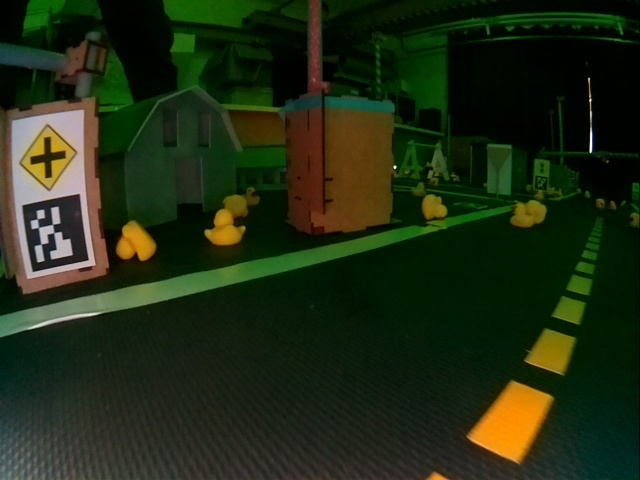Duckie: (116, 222, 155, 261), (205, 214, 245, 246), (422, 196, 447, 218), (224, 194, 246, 216), (512, 205, 533, 227), (245, 189, 259, 204), (411, 182, 423, 196), (629, 213, 639, 226), (596, 199, 605, 208), (610, 200, 617, 210)
Intersection sign: (15, 121, 81, 190)
QR code: (21, 198, 92, 272), (535, 177, 548, 190)
Signal sign: (535, 160, 548, 174)
